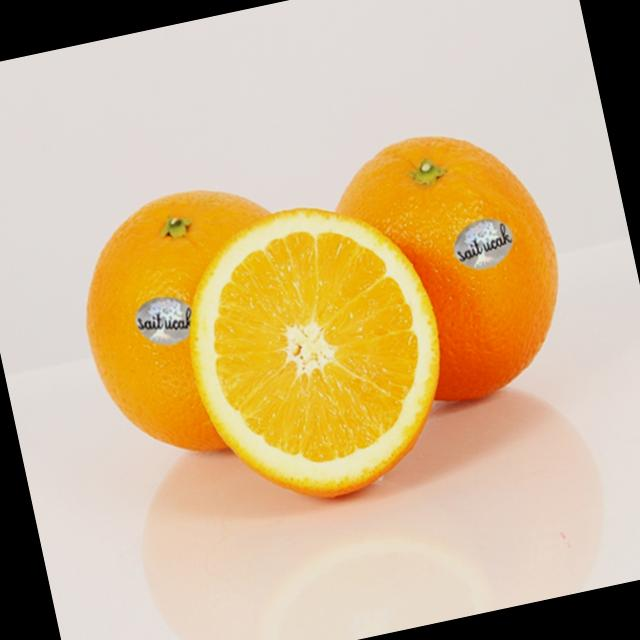orange: (292, 89, 594, 430), (52, 155, 338, 500)
